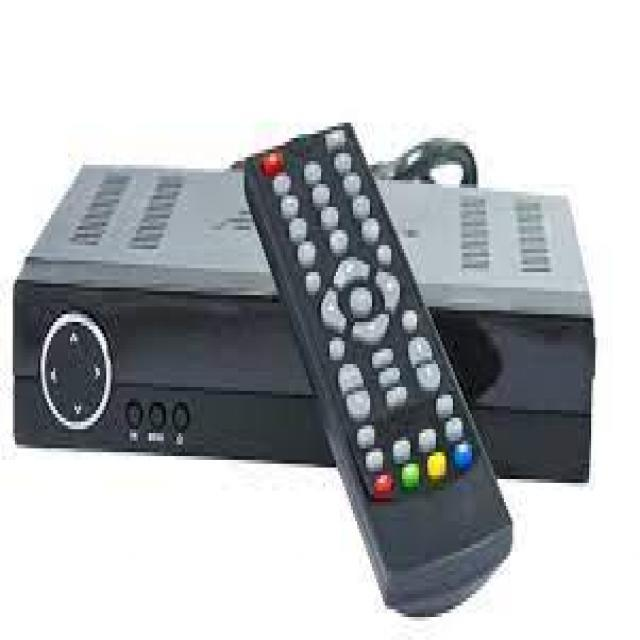remote: (242, 122, 515, 615)
